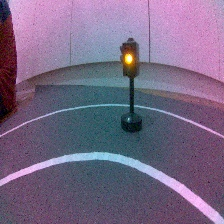amber: (117, 36, 148, 134)
